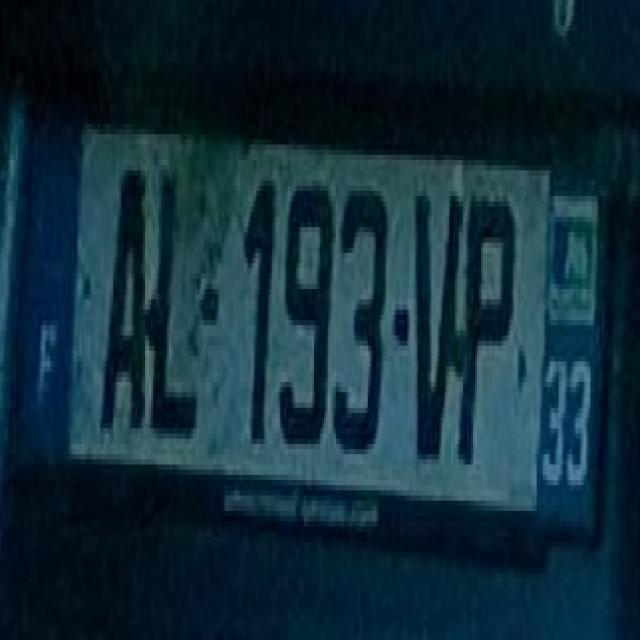EU: (13, 115, 614, 541)
France: (8, 121, 80, 475)
